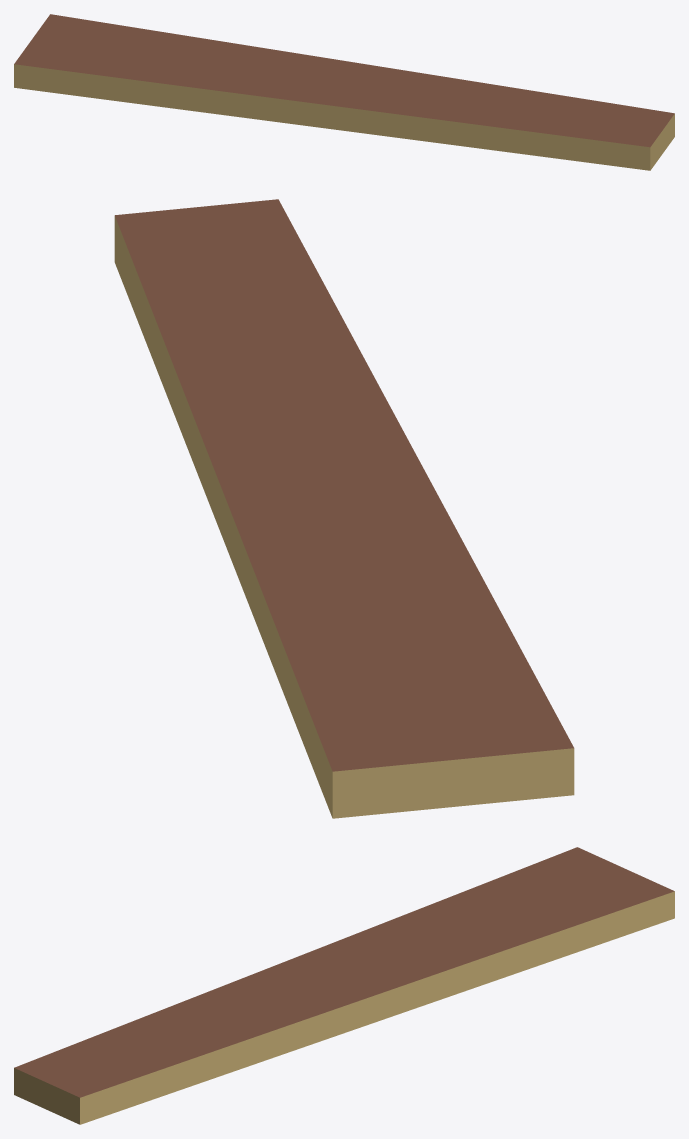
Rendered from SM_Fondale_Citta_E_01_LOD2.fbx.
3 views of the same model, one above another, from view 1: azimuth 30°, elevation 25°; view 2: azimuth 150°, elevation 25°; view 3: azimuth 270°, elevation 25° (orthographic). The views are drawn at different scales.
Visible parts, largest first — view 1: SM_Fondale_Citta_E_01_LOD2; view 2: SM_Fondale_Citta_E_01_LOD2; view 3: SM_Fondale_Citta_E_01_LOD2.
Part boxes in pixels (left/top/right/bottom): SM_Fondale_Citta_E_01_LOD2: left=14, top=14, right=674, bottom=170; SM_Fondale_Citta_E_01_LOD2: left=114, top=199, right=574, bottom=818; SM_Fondale_Citta_E_01_LOD2: left=14, top=847, right=674, bottom=1124.
Size of the model in its own units: 12607 by 14045 by 636.
